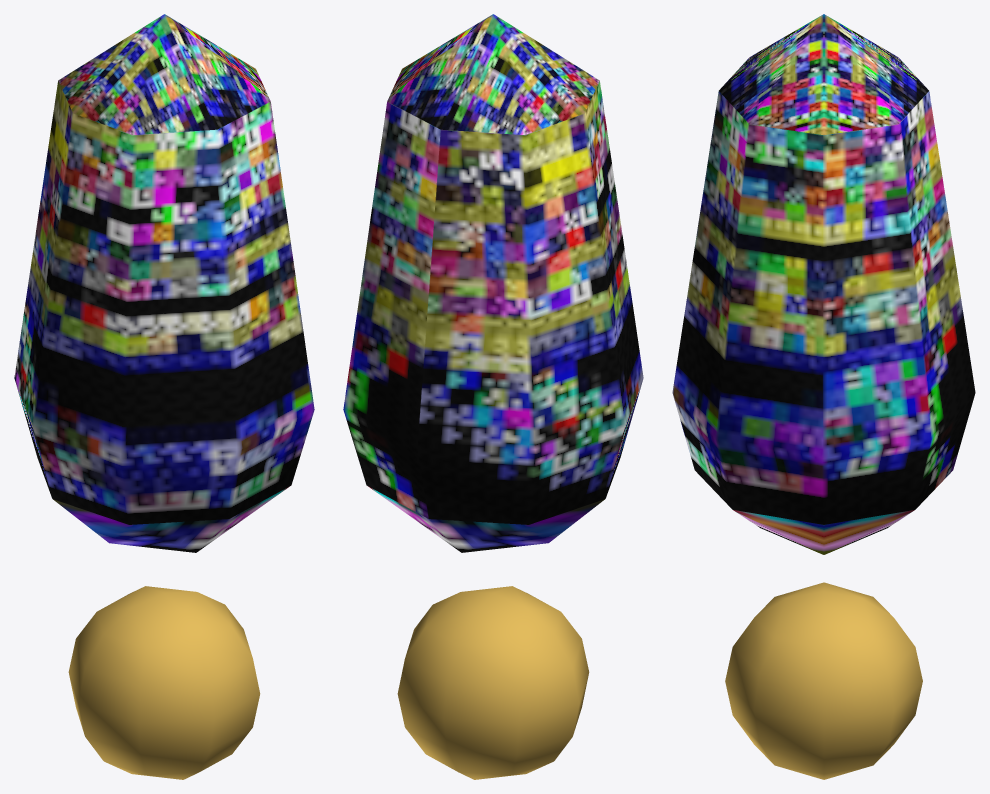
Rendered from cloth_horror_model.glb.
3 views of the same model, side by side, from view 1: azimuth 30°, elevation 25°; view 2: azimuth 150°, elevation 25°; view 3: azimuth 270°, elevation 25° (orthographic).
Visible parts, largest first — view 1: cloth_horror_model; view 2: cloth_horror_model; view 3: cloth_horror_model.
Part boxes in pixels (box(x1,y1,x2,y2)): cloth_horror_model: box(14, 14, 314, 779); cloth_horror_model: box(343, 14, 643, 779); cloth_horror_model: box(672, 14, 975, 779).
Bounding box in the file's own units: 31.32 × 86.34 × 31.34.
1 material, 1 textured.
